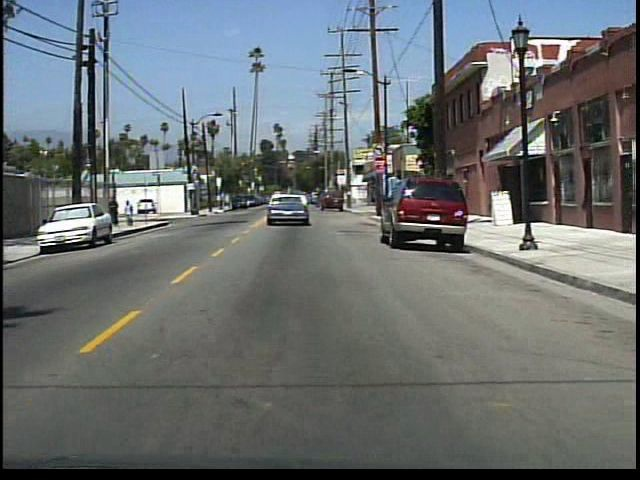person: (108, 196, 124, 229), (125, 199, 139, 230)
